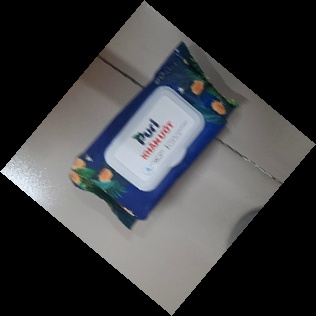Puri Xanh: (69, 40, 239, 236)
